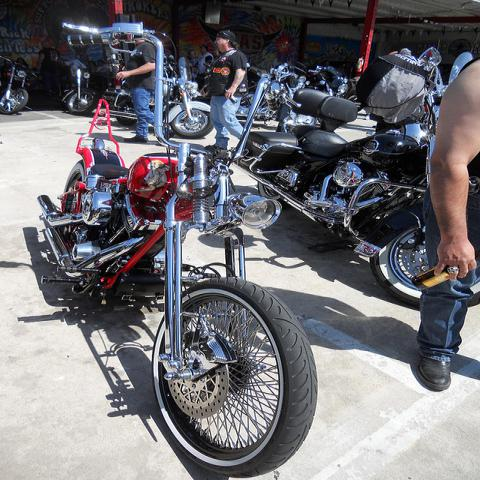motorcycle: (36, 11, 316, 428), (253, 53, 470, 302), (164, 57, 214, 140), (46, 57, 100, 115), (0, 56, 40, 116), (304, 66, 348, 96)
